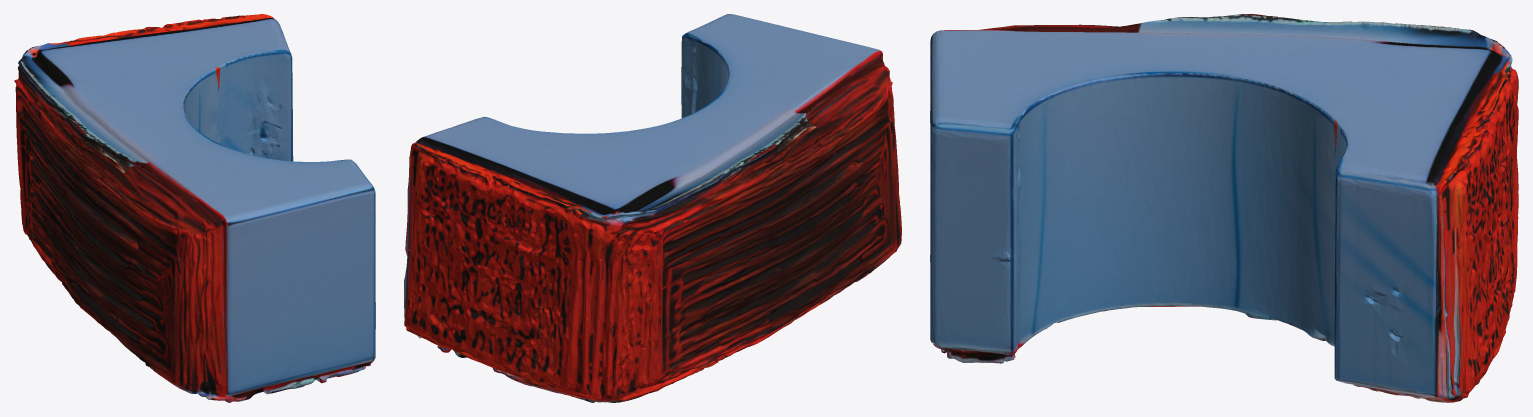
Rendered from image_0001_segmented.glb.
3 renders of one model, left to right at view 1: azimuth 30°, elevation 25°; view 2: azimuth 150°, elevation 25°; view 3: azimuth 270°, elevation 25°, orthographic. The views are drawn at different scales.
Visible parts, largest first — view 1: tmpj1n0v3qu.ply; view 2: tmpj1n0v3qu.ply; view 3: tmpj1n0v3qu.ply.
Part boxes in pixels (left/top/right/bottom): tmpj1n0v3qu.ply: left=14, top=14, right=375, bottom=402; tmpj1n0v3qu.ply: left=404, top=14, right=901, bottom=402; tmpj1n0v3qu.ply: left=930, top=14, right=1518, bottom=402.
Size of the model in its own units: 1.43 by 0.9156 by 1.99.
1 material, 1 textured.
